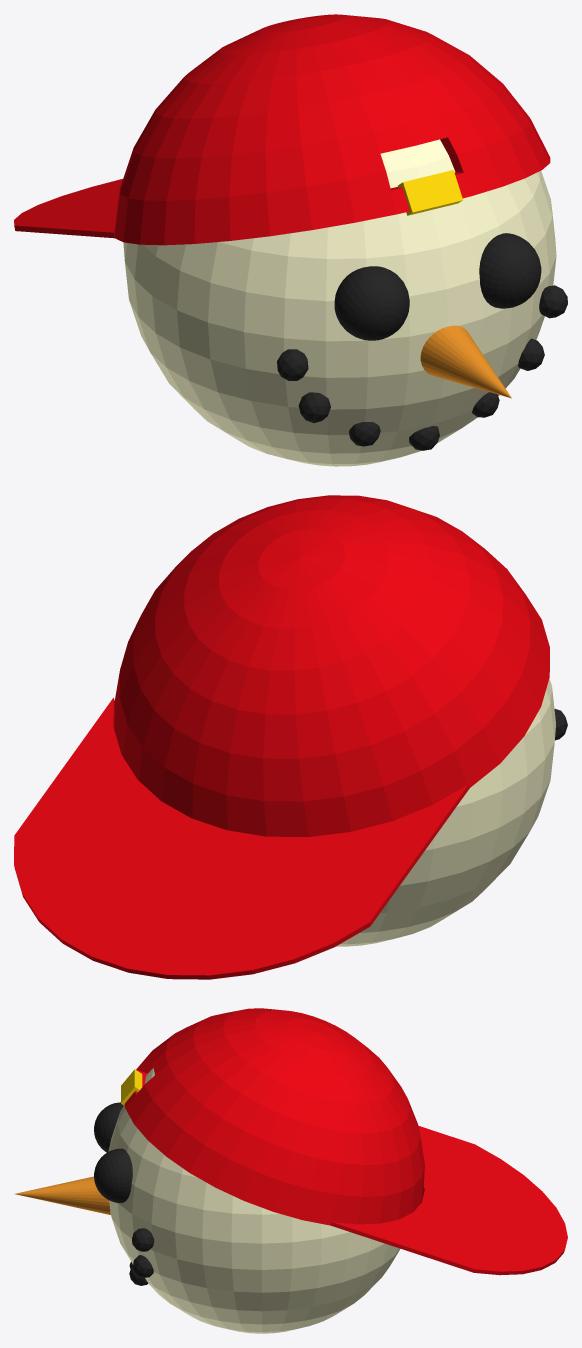
File: SnowHead.fbx
3 renders of one model, top to bottom at view 1: azimuth 30°, elevation 25°; view 2: azimuth 150°, elevation 25°; view 3: azimuth 270°, elevation 25°, orthographic. The views are drawn at different scales.
Parts seen in each view (by area): view 1: Buckle; view 2: Buckle; view 3: Buckle.
Part boxes in pixels (left/top/right/bottom): Buckle: left=14, top=14, right=567, bottom=466; Buckle: left=14, top=495, right=567, bottom=979; Buckle: left=15, top=1008, right=567, bottom=1333.
Size of the model in its own units: 1.23 by 1.25 by 2.13.
